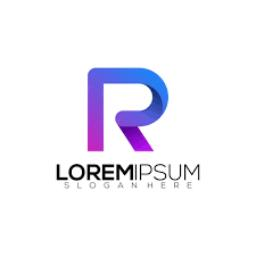r: (80, 60, 172, 158)
